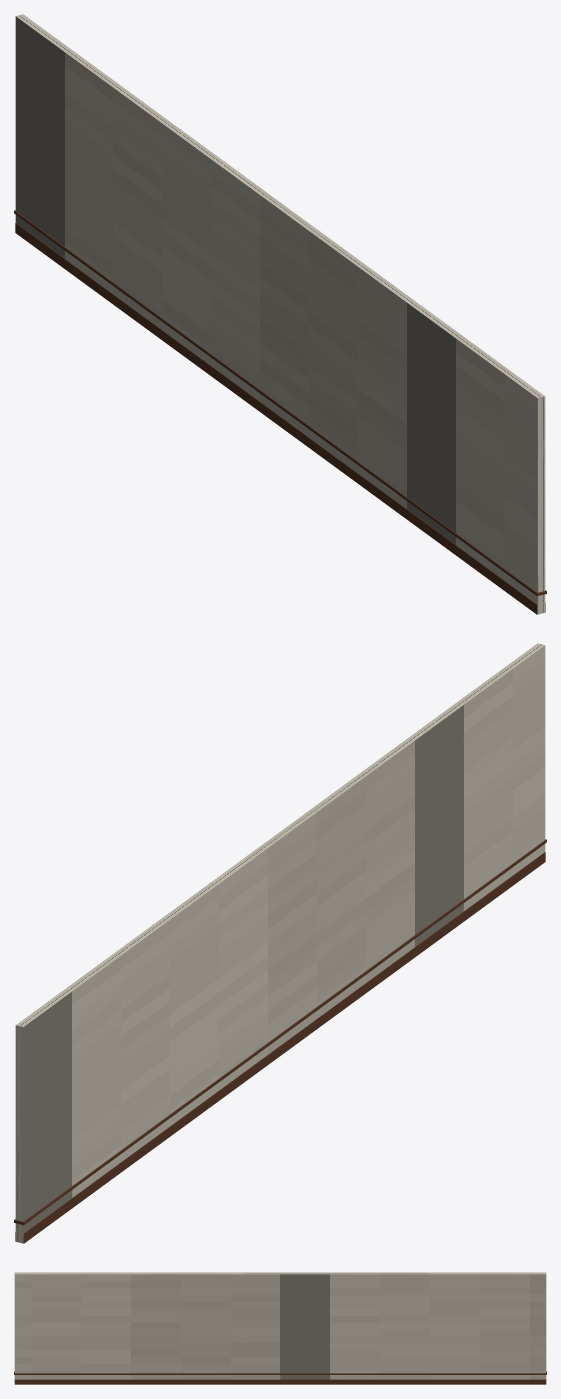
Rendered from middle_div1.glb.
3 renders of one model, top to bottom at view 1: azimuth 30°, elevation 25°; view 2: azimuth 150°, elevation 25°; view 3: azimuth 270°, elevation 25°, orthographic. The views are drawn at different scales.
Visible parts, largest first — view 1: Box1, Box2, Box3, Box4; view 2: Box1, Box2, Box3, Box4; view 3: Box1, Box2, Box3, Box4.
Boxes of the visible parts, x1,y1,x2,y2 form: Box1: (15, 14, 545, 614); Box2: (15, 223, 545, 614); Box3: (16, 216, 545, 613); Box4: (14, 210, 546, 596); Box1: (15, 643, 545, 1243); Box2: (15, 852, 545, 1243); Box3: (16, 844, 544, 1242); Box4: (14, 839, 546, 1225); Box1: (14, 1272, 546, 1379); Box2: (14, 1379, 546, 1384); Box3: (14, 1375, 546, 1379); Box4: (14, 1371, 546, 1374).
Size of the model in its own units: 0.19 by 3.97 by 17.39.
2 materials, 1 textured.
